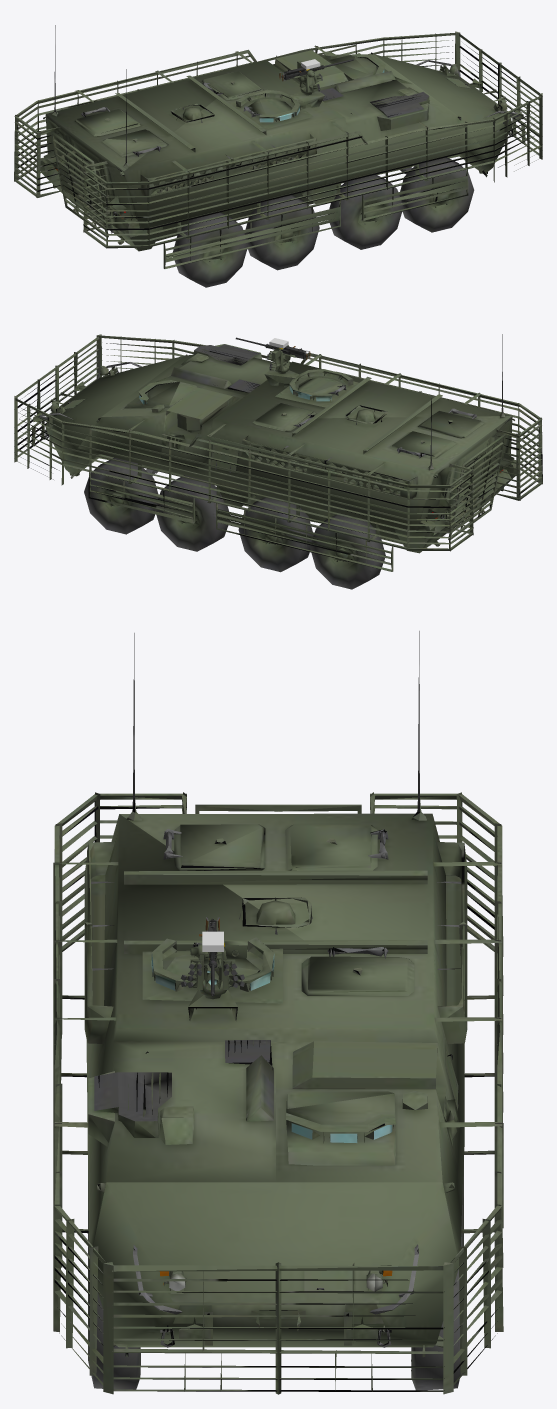
Rendered from stryker.glb.
3 renders of one model, top to bottom at view 1: azimuth 30°, elevation 25°; view 2: azimuth 150°, elevation 25°; view 3: azimuth 270°, elevation 25°, orthographic. The views are drawn at different scales.
Visible parts, largest first — view 1: g_stryker_hull, g_stryker_turret; view 2: g_stryker_hull, g_stryker_turret; view 3: g_stryker_hull, g_stryker_turret.
Part boxes in pixels (x1,y1,x2,y2): g_stryker_hull: (14,25,542,287); g_stryker_turret: (279,59,353,95); g_stryker_hull: (14,334,542,589); g_stryker_turret: (235,337,310,373); g_stryker_hull: (53,631,503,1394); g_stryker_turret: (180,917,247,999).
Bounding box in the file's own units: 6.95 × 3.49 × 3.07.
3 materials, 2 textured.
